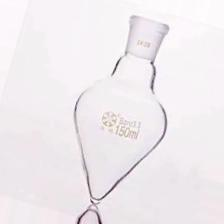Pear shaped flask: (60, 18, 208, 207)
